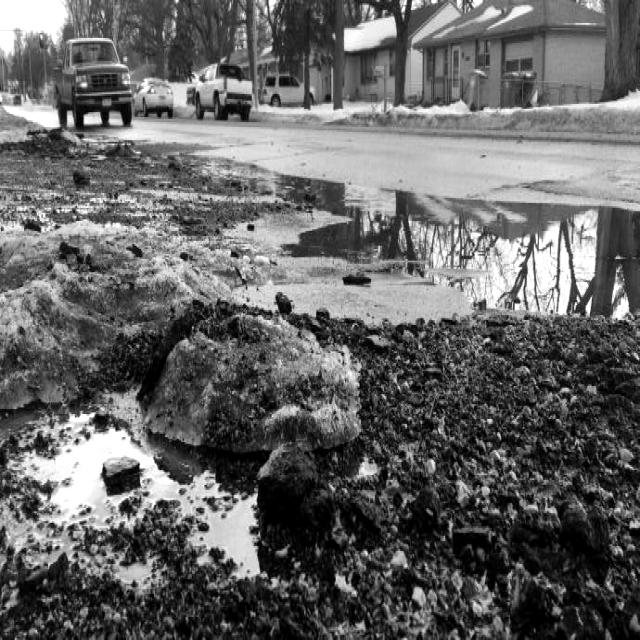pathole: (4, 219, 365, 640), (175, 139, 640, 446), (19, 119, 127, 176)
